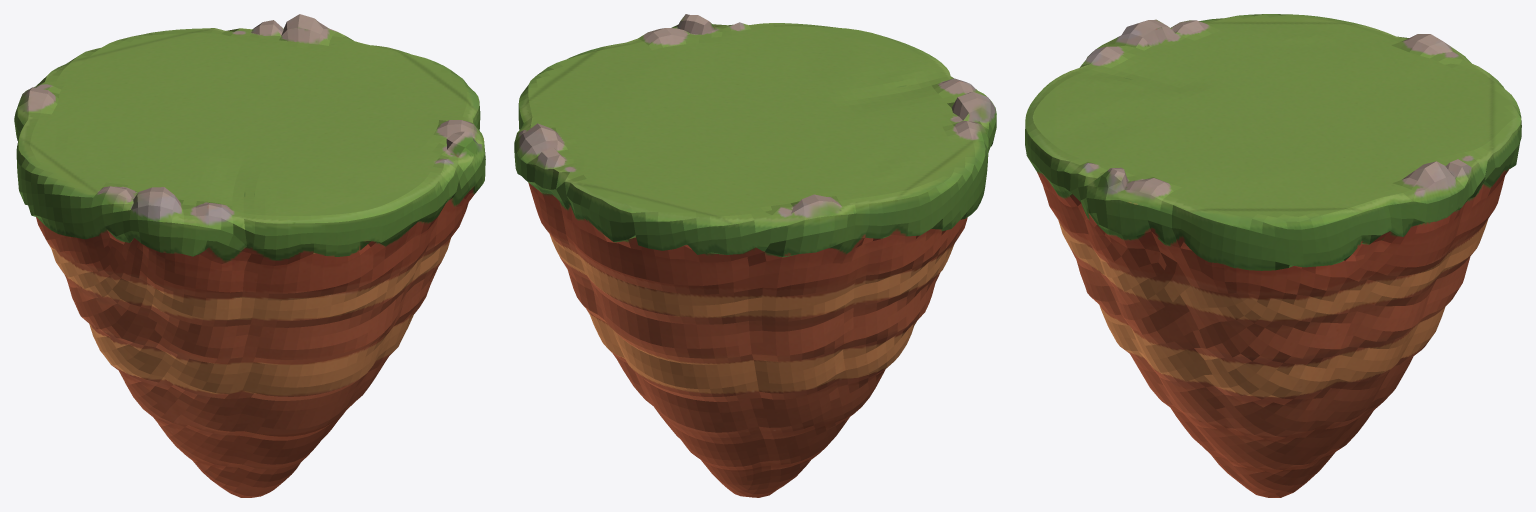
Rendered from hub_island.glb.
3 views of the same model, side by side, from view 1: azimuth 30°, elevation 25°; view 2: azimuth 150°, elevation 25°; view 3: azimuth 270°, elevation 25° (orthographic).
Visible parts, largest first — view 1: island_low; view 2: island_low; view 3: island_low.
Boxes of the visible parts, x1=… form: island_low: x1=14, y1=14, x2=485, y2=497; island_low: x1=514, y1=14, x2=996, y2=497; island_low: x1=1025, y1=14, x2=1521, y2=497.
Bounding box in the file's own units: 75 × 65.55 × 74.74.
1 material, 1 textured.
